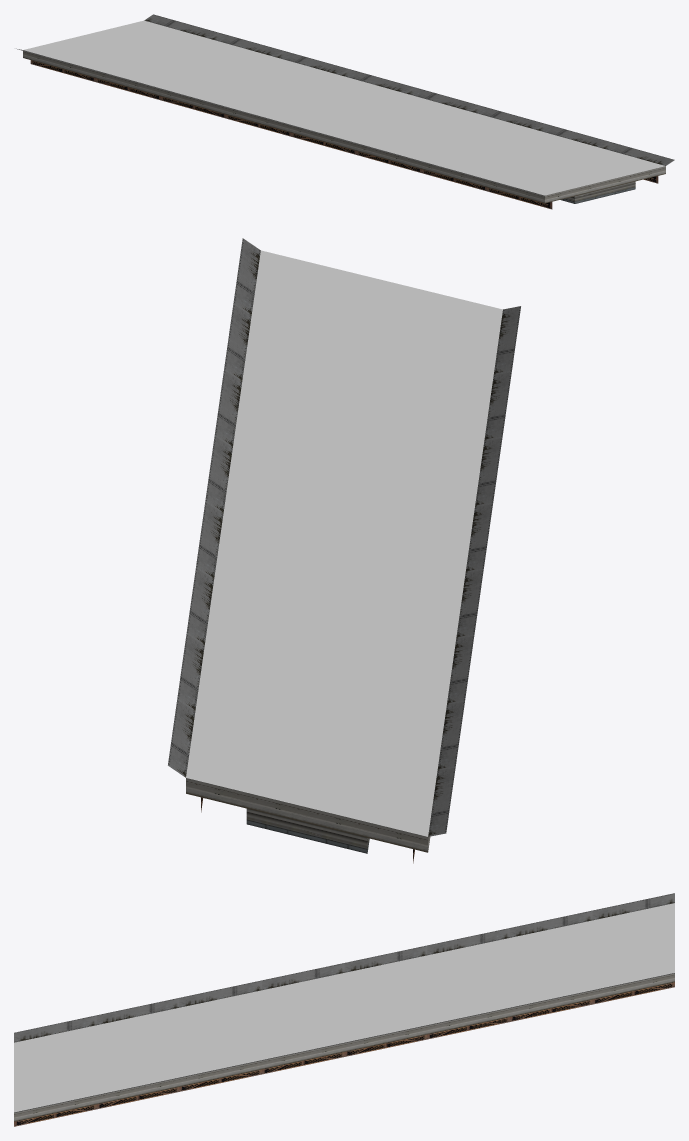
File: ShearB_L.fbx
3 views of the same model, one above another, from view 1: azimuth 30°, elevation 25°; view 2: azimuth 150°, elevation 25°; view 3: azimuth 270°, elevation 25° (orthographic). The views are drawn at different scales.
Visible parts, largest first — view 1: Empty_Mesh; view 2: Empty_Mesh; view 3: Empty_Mesh.
Boxes of the visible parts, left/top/right/bottom form: Empty_Mesh: left=16, top=14, right=674, bottom=209; Empty_Mesh: left=168, top=238, right=520, bottom=863; Empty_Mesh: left=14, top=893, right=674, bottom=1126.
Size of the model in its own units: 50.4 by 2.5 by 64.
